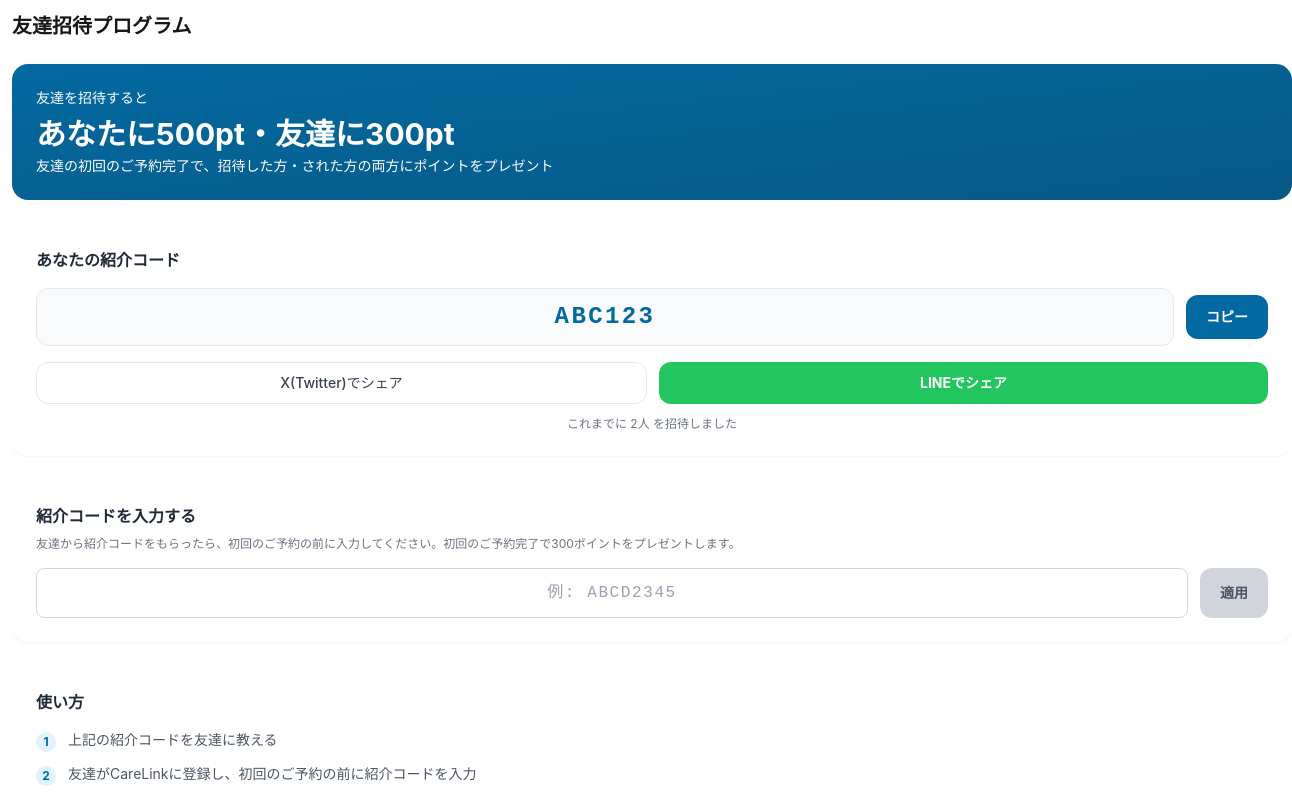
Test case: clipboard denial cannot claim referral code was copied
Step 1. Click the button "コピー" → (1227, 317), box [1186,295,1268,339]
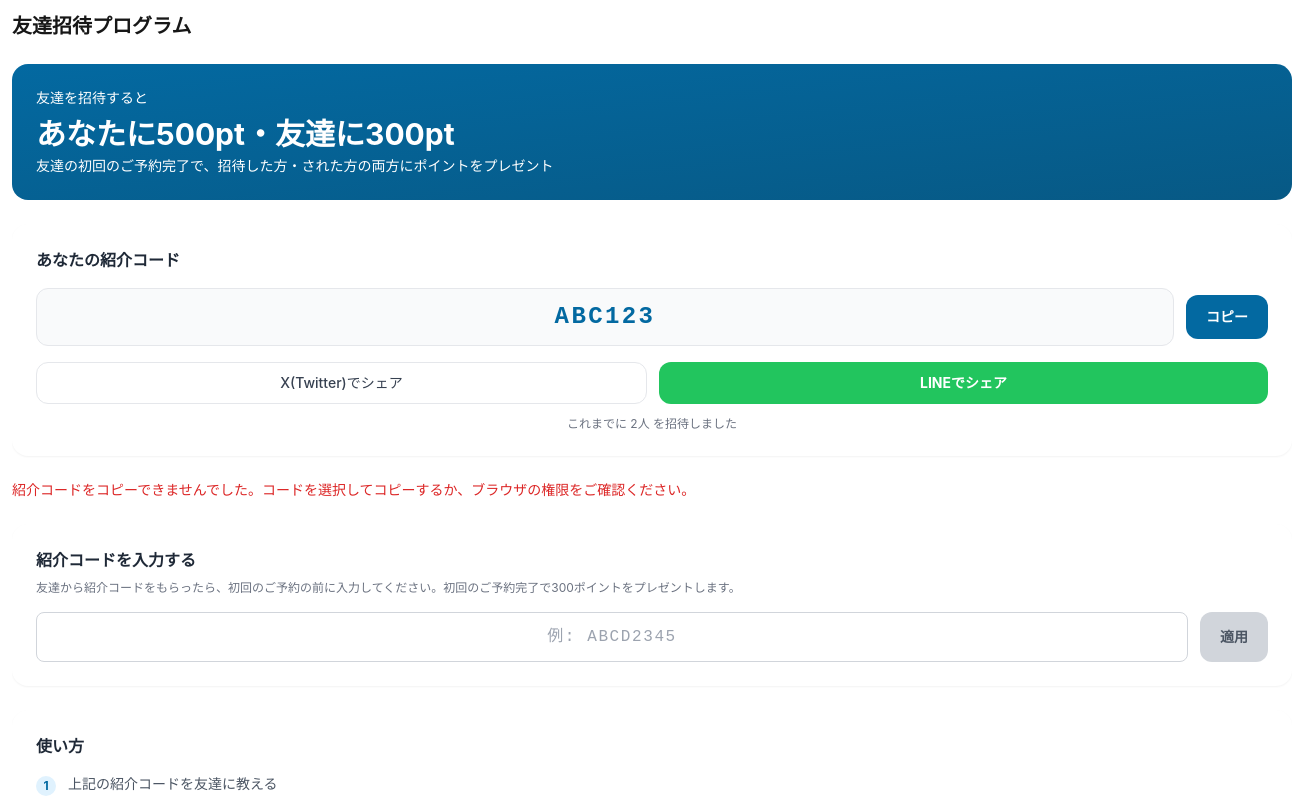
Expected: the message shows "コピーできませんでした", [12,481,695,498]
